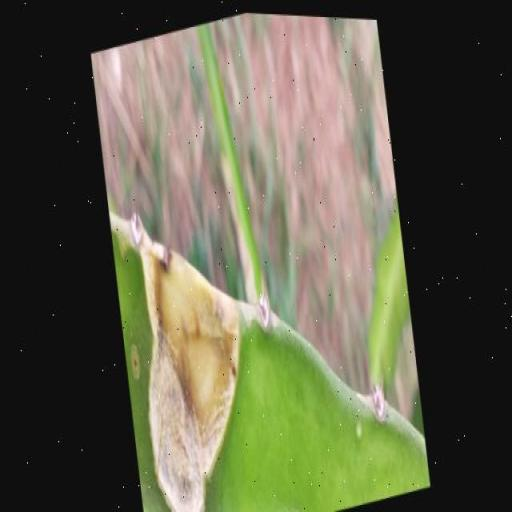stemcanker: (127, 338, 146, 382), (349, 417, 366, 448)
